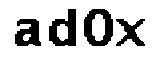0: (82, 8, 115, 48)
a: (11, 17, 43, 47)
d: (48, 8, 80, 49)
x: (115, 15, 146, 51)
